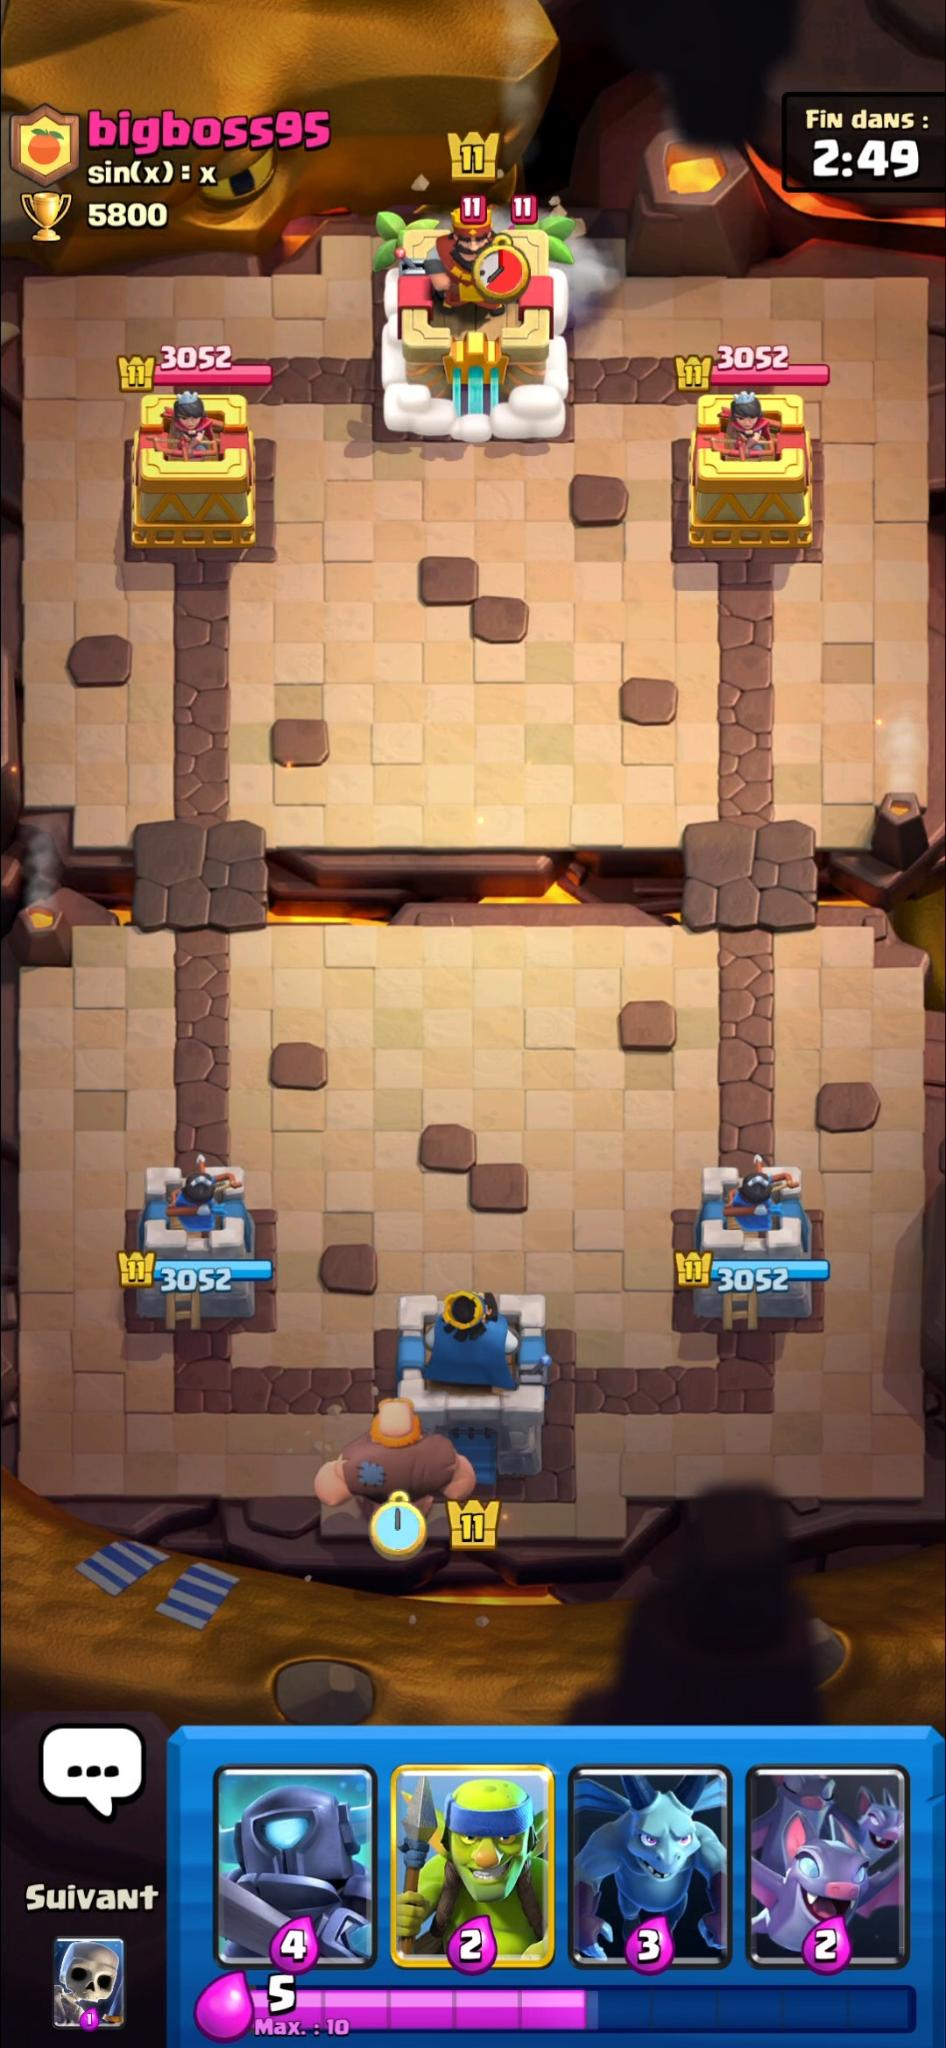geant: (311, 1399, 482, 1548)
